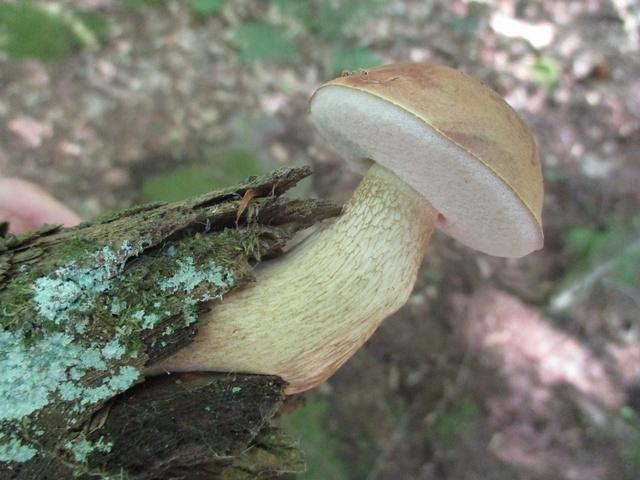Non-edible Mushroom: (136, 58, 546, 397)
